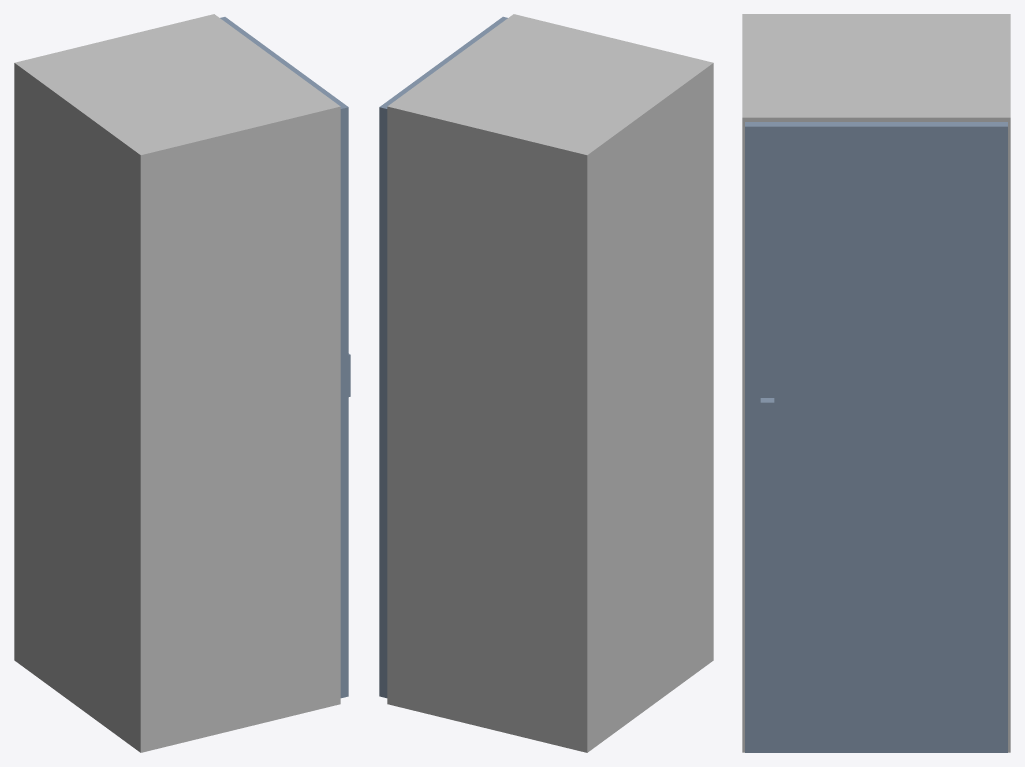
Rendered from Schaltschrank_klein.dae.
3 views of the same model, side by side, from view 1: azimuth 30°, elevation 25°; view 2: azimuth 150°, elevation 25°; view 3: azimuth 270°, elevation 25° (orthographic). The views are drawn at different scales.
Visible parts, largest first — view 1: Schrank, Door Right; view 2: Schrank, Door Right; view 3: Door Right, Schrank.
Part boxes in pixels (<box>): Schrank: <box>14,14,340,752</box>; Door Right: <box>220,17,350,698</box>; Schrank: <box>387,14,713,752</box>; Door Right: <box>379,16,507,698</box>; Door Right: <box>745,122,1007,752</box>; Schrank: <box>742,14,1010,752</box>.
Bounding box in the file's own units: 1.53 × 1.53 × 4.
